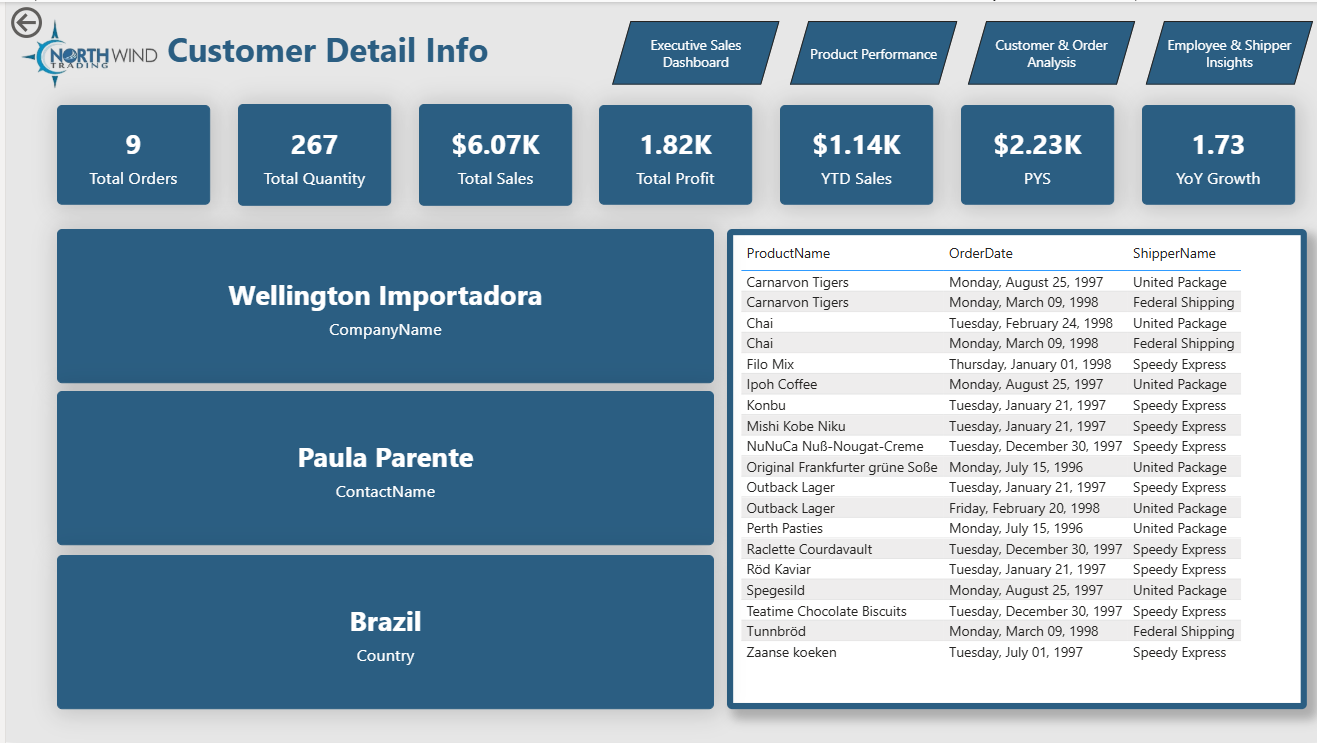

The page's visual inventory and layout, read from the dashboard file:
{"tool":"powerbi","page":{"name":" Customer Detail Info (Drill-through)","canvas":[1280,720],"ordinal":4},"visuals":[{"type":"card","fields":{"Values":["Measurestbl.Total Sales"]},"box":[401.4,99.3,148.8,99.2],"z":0},{"type":"textbox","box":[151.7,18.5,464.9,62.2],"z":1000},{"type":"image","box":[0,0,173.1,122.6],"z":2000},{"type":"card","fields":{"Values":["Measurestbl.YTD Sales"]},"box":[753.2,100.3,148.8,97.3],"z":3000},{"type":"card","fields":{"Values":["Measurestbl.YoY Growth"]},"box":[1104.9,100.3,148.8,97.3],"z":4000},{"type":"card","fields":{"Values":["Measurestbl.Total Orders"]},"box":[49.6,100.3,148.8,97.3],"z":5000},{"type":"card","fields":{"Values":["Measurestbl.Previous Year Sales"]},"box":[929,100.3,148.8,97.3],"z":6000},{"type":"card","fields":{"Values":["Measurestbl.Total Quantity"]},"box":[225.5,99.3,148.8,99.2],"z":7000},{"type":"card","fields":{"Values":["Measurestbl.Total Profit"]},"box":[577.3,100.3,148.8,97.3],"z":8000},{"type":"pageNavigator","box":[589.4,18.5,684.7,62.2],"z":9000},{"type":"actionButton","box":[0,0,100,40],"z":10000},{"type":"tableEx","fields":{"Values":["DimProudcts.ProductName","FactSales.OrderDate","DimShipper.ShipperName"]},"box":[701.3,220.8,564.1,466.9],"z":11000},{"type":"card","fields":{"Values":["Min(DimCustomer.CompanyName)"]},"box":[49.6,220.8,639,149.8],"z":12000},{"type":"card","fields":{"Values":["Min(DimCustomer.ContactName)"]},"box":[49.6,378.4,639,149.8],"z":13000},{"type":"card","fields":{"Values":["Min(DimCustomer.Country)"]},"box":[49.6,537.9,639,149.8],"z":14000}]}

Visuals, with their boxes in screenshot pixels (x1, y1, x2, y2), scaled from the page's 1280x720 canvas onto the 1317x743 screenshot:
card - Measurestbl.Total Sales: 413 102 566 205
textbox: 156 19 634 83
image: 0 0 178 127
card - Measurestbl.YTD Sales: 775 104 928 204
card - Measurestbl.YoY Growth: 1137 104 1290 204
card - Measurestbl.Total Orders: 51 104 204 204
card - Measurestbl.Previous Year Sales: 956 104 1109 204
card - Measurestbl.Total Quantity: 232 102 385 205
card - Measurestbl.Total Profit: 594 104 747 204
pageNavigator: 606 19 1311 83
actionButton: 0 0 103 41
tableEx - DimProudcts.ProductName x FactSales.OrderDate: 722 228 1302 710
card - Min(DimCustomer.CompanyName): 51 228 709 382
card - Min(DimCustomer.ContactName): 51 390 709 545
card - Min(DimCustomer.Country): 51 555 709 710
